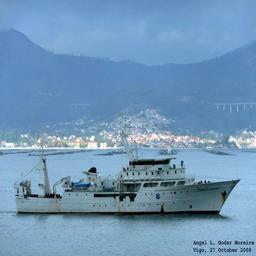Ship: (11, 153, 243, 216)
